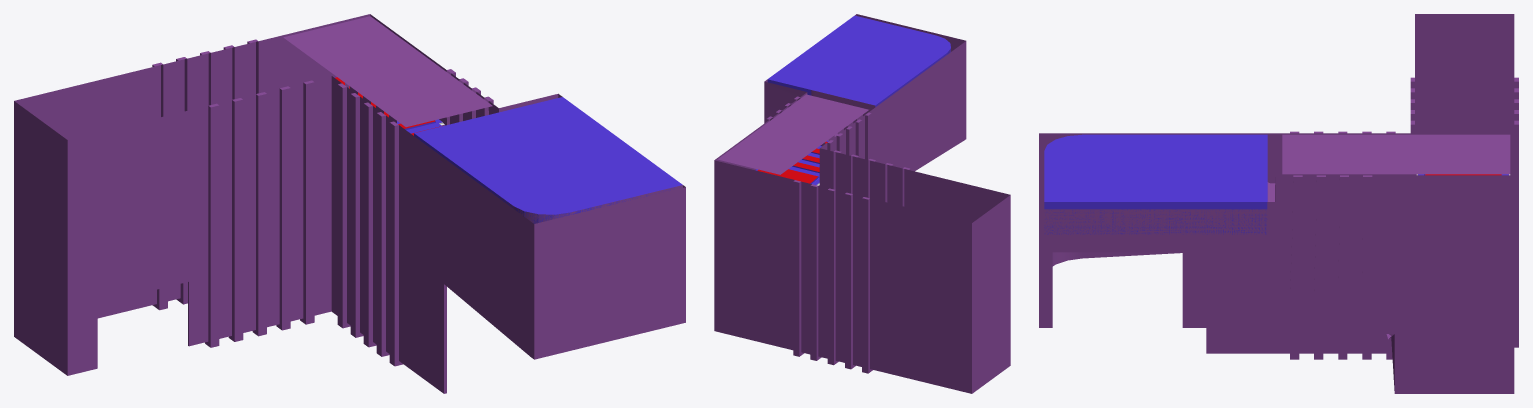
The model's file is Hidden Hall.fbx.
3 renders of one model, left to right at view 1: azimuth 30°, elevation 25°; view 2: azimuth 150°, elevation 25°; view 3: azimuth 270°, elevation 25°, orthographic. The views are drawn at different scales.
Visible parts, largest first — view 1: Hidden Hall; view 2: Hidden Hall; view 3: Hidden Hall.
Boxes of the visible parts, x1,y1,x2,y2 form: Hidden Hall: (14,14,685,393); Hidden Hall: (714,14,1010,393); Hidden Hall: (1039,14,1518,393).
Bounding box in the file's own units: 11101 × 6137 × 11971.
